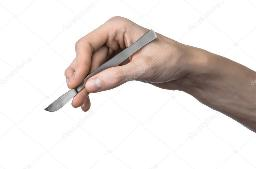scalpel: (44, 29, 158, 112)
